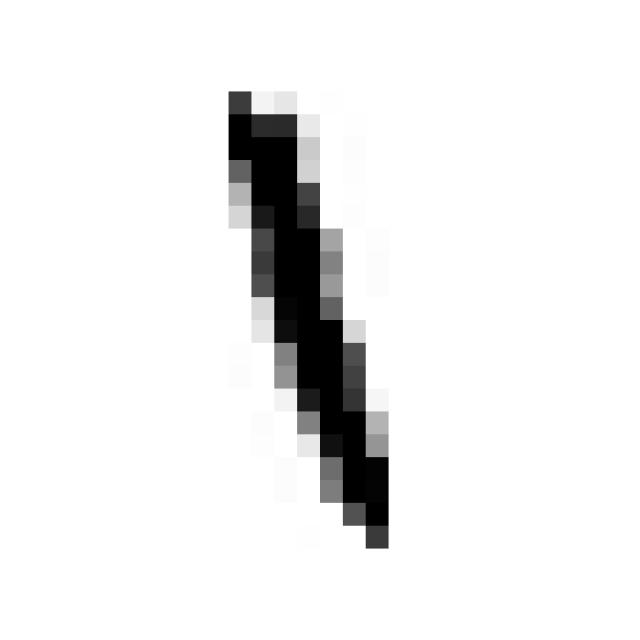1 -one-: (206, 73, 402, 564)
